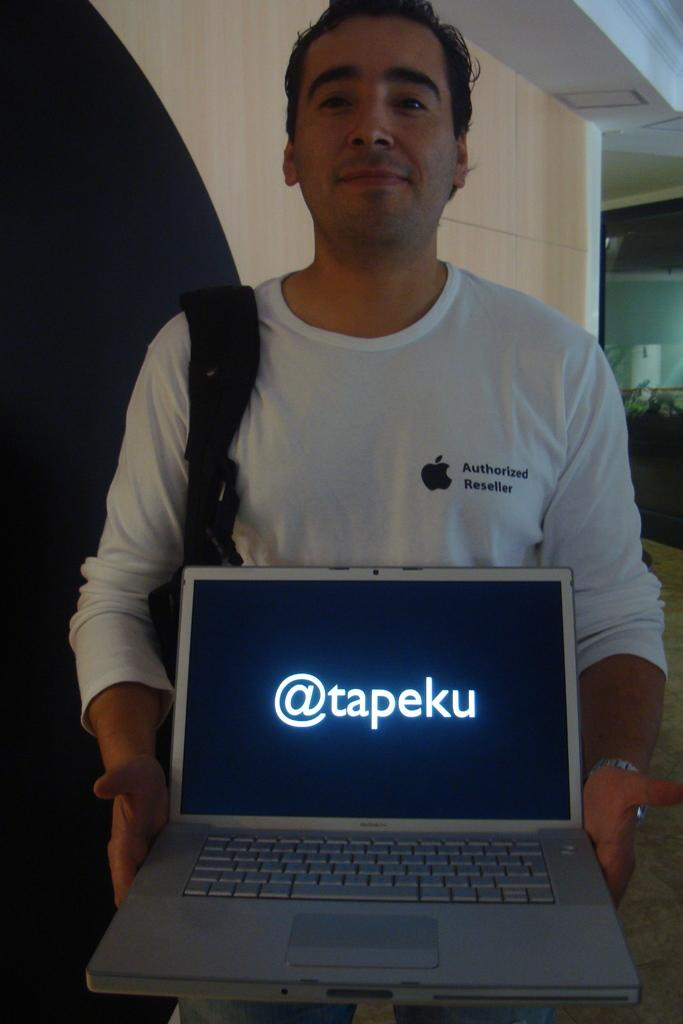Laptop: (77, 536, 652, 1008)
